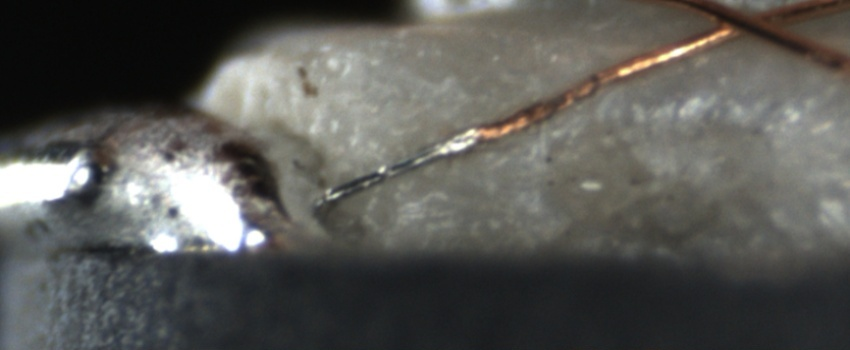CL: (685, 2, 793, 44)
DL: (518, 84, 824, 132)
TS: (315, 125, 478, 206)
TTCW: (314, 92, 573, 212)
